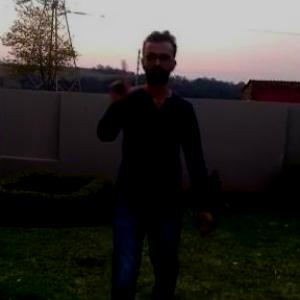land_hand: (105, 57, 149, 106)
